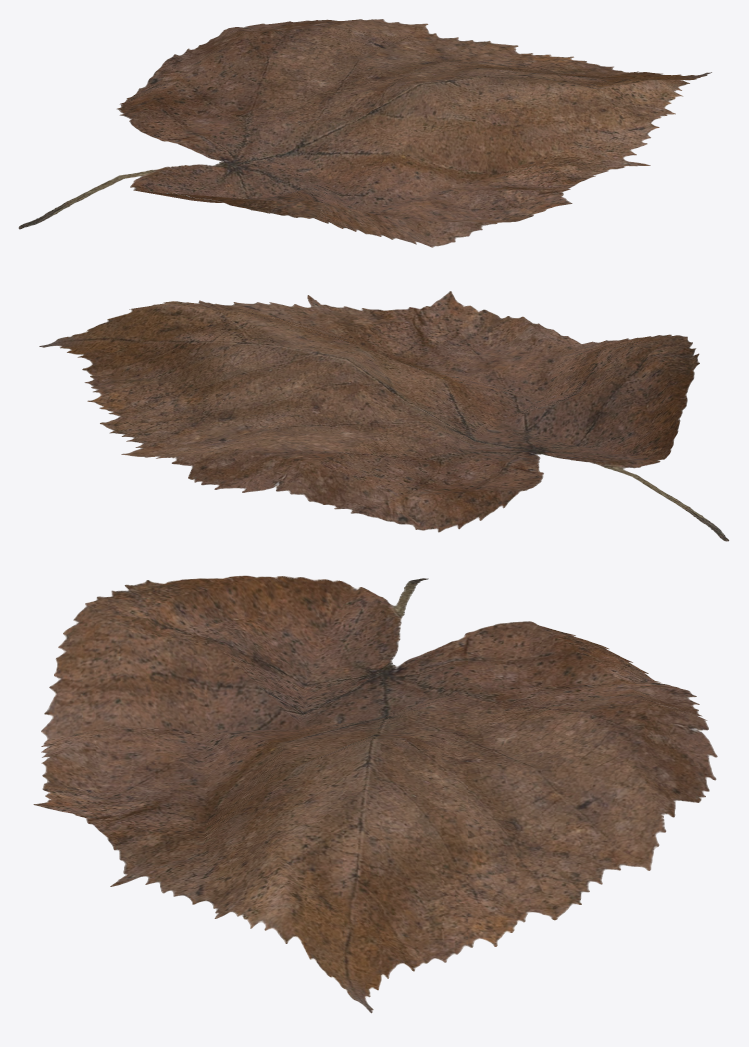
Rendered from OId leaf.fbx.
3 renders of one model, top to bottom at view 1: azimuth 30°, elevation 25°; view 2: azimuth 150°, elevation 25°; view 3: azimuth 270°, elevation 25°, orthographic. The views are drawn at different scales.
Visible parts, largest first — view 1: Old_leaf; view 2: Old_leaf; view 3: Old_leaf.
Part boxes in pixels (x1,y1,x2,y2): Old_leaf: [18, 19, 711, 247]; Old_leaf: [39, 291, 729, 541]; Old_leaf: [33, 575, 717, 1013].
Size of the model in its own units: 126 by 11.38 by 83.41.
Materials: 1 (1 with a texture image).
